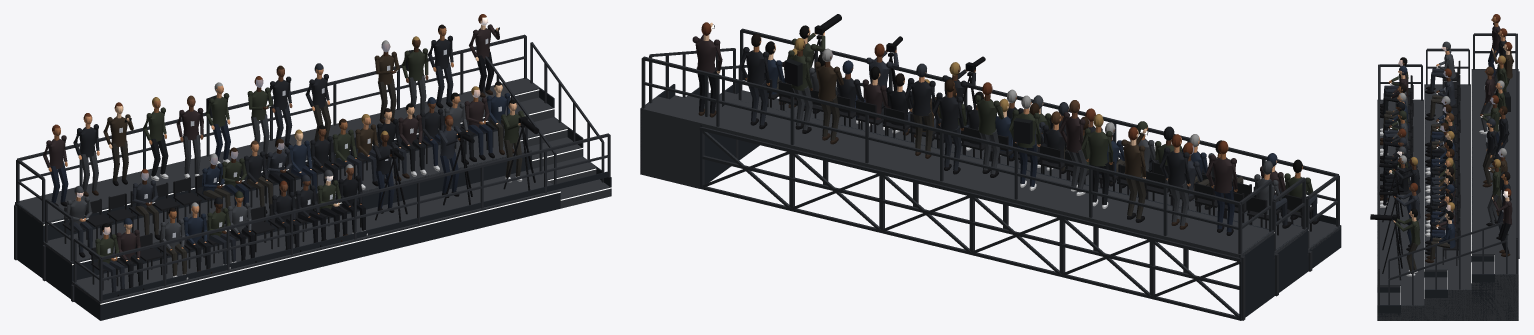
The model's file is tribune_presse.glb.
3 views of the same model, side by side, from view 1: azimuth 30°, elevation 25°; view 2: azimuth 150°, elevation 25°; view 3: azimuth 270°, elevation 25° (orthographic). The views are drawn at different scales.
Visible parts, largest first — view 1: structure, personnes, chaises, appareils_photo; view 2: structure, personnes, chaises, appareils_photo; view 3: structure, personnes, chaises, appareils_photo.
Part boxes in pixels (x1,y1,x2,y2): structure: (14, 34, 611, 320); personnes: (42, 14, 524, 296); chaises: (62, 113, 504, 290); appareils_photo: (375, 116, 539, 221); structure: (640, 28, 1341, 320); personnes: (692, 22, 1319, 235); chaises: (758, 78, 1314, 235); appareils_photo: (811, 14, 985, 111); structure: (1377, 33, 1519, 320); personnes: (1380, 14, 1513, 276); chaises: (1395, 60, 1460, 265); appareils_photo: (1370, 163, 1403, 280).
Bounding box in the file's own units: 12.03 × 3.07 × 3.68.
